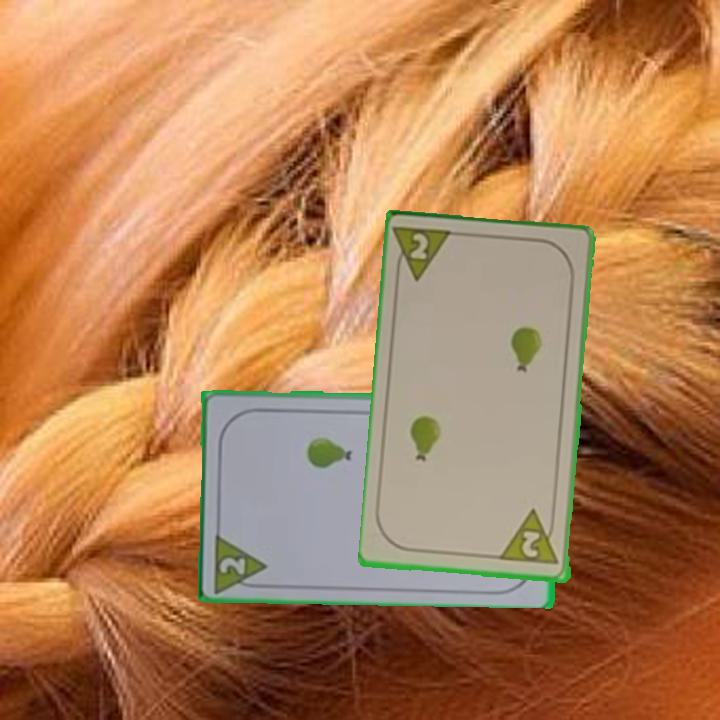2p: (392, 223, 459, 285), (210, 528, 271, 593), (499, 507, 562, 568)
